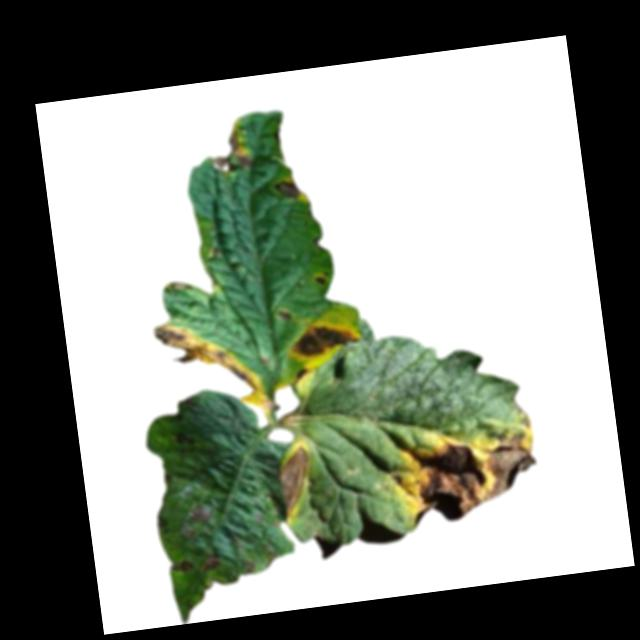Early_blight: (388, 425, 543, 530), (144, 311, 271, 428), (275, 444, 315, 521), (291, 318, 360, 360), (207, 125, 254, 177), (272, 178, 300, 204), (196, 554, 221, 573), (168, 560, 193, 575), (275, 306, 293, 324), (312, 274, 327, 287)
